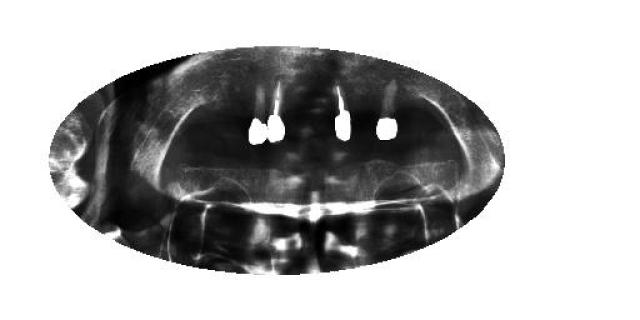Fillings: (375, 78, 400, 142), (248, 80, 268, 146)
Implant: (266, 78, 288, 144), (334, 80, 355, 142)
